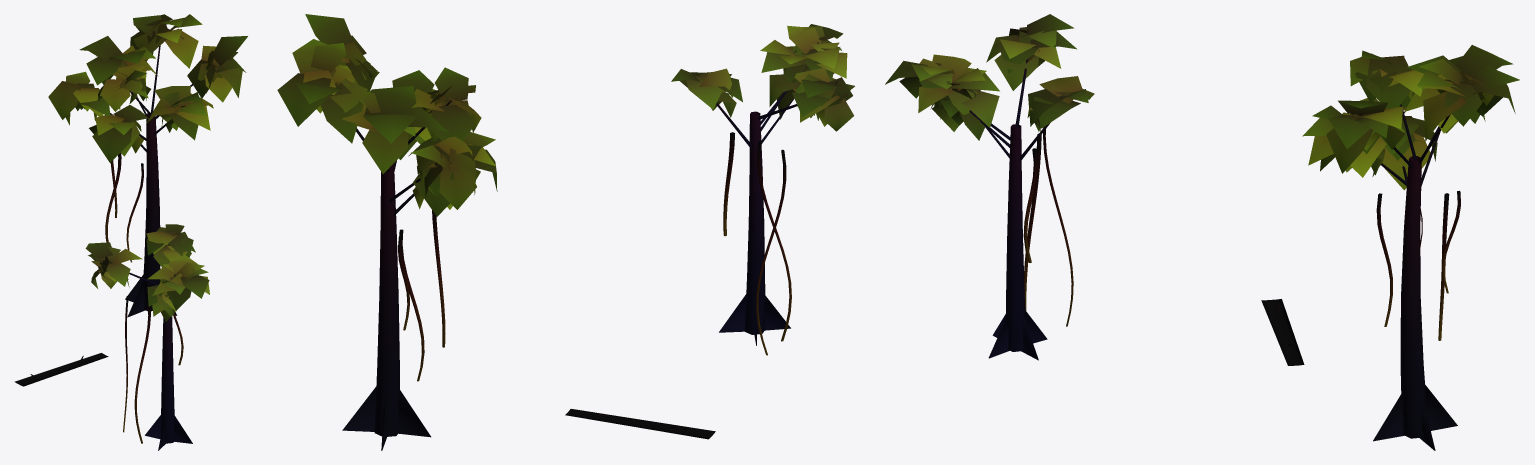
Rendered from patch_clearing_far.glb.
3 renders of one model, left to right at view 1: azimuth 30°, elevation 25°; view 2: azimuth 150°, elevation 25°; view 3: azimuth 270°, elevation 25°, orthographic. The views are drawn at different scales.
Visible parts, largest first — view 1: patch_clearing_far; view 2: patch_clearing_far; view 3: patch_clearing_far.
Boxes of the visible parts, x1,y1,x2,y2 form: patch_clearing_far: [14, 14, 247, 450]; patch_clearing_far: [277, 14, 854, 450]; patch_clearing_far: [885, 14, 1519, 450].
Size of the model in its own units: 14.04 by 13.32 by 19.73.
1 material, 1 textured.
